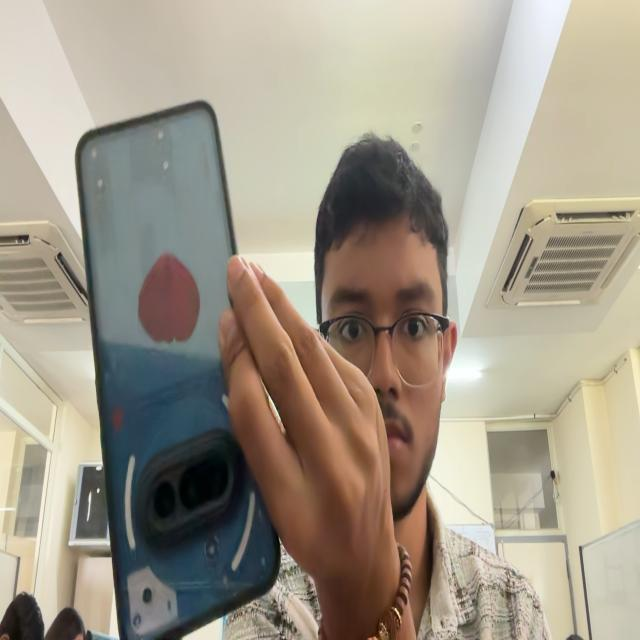Useful: (76, 101, 280, 639)
